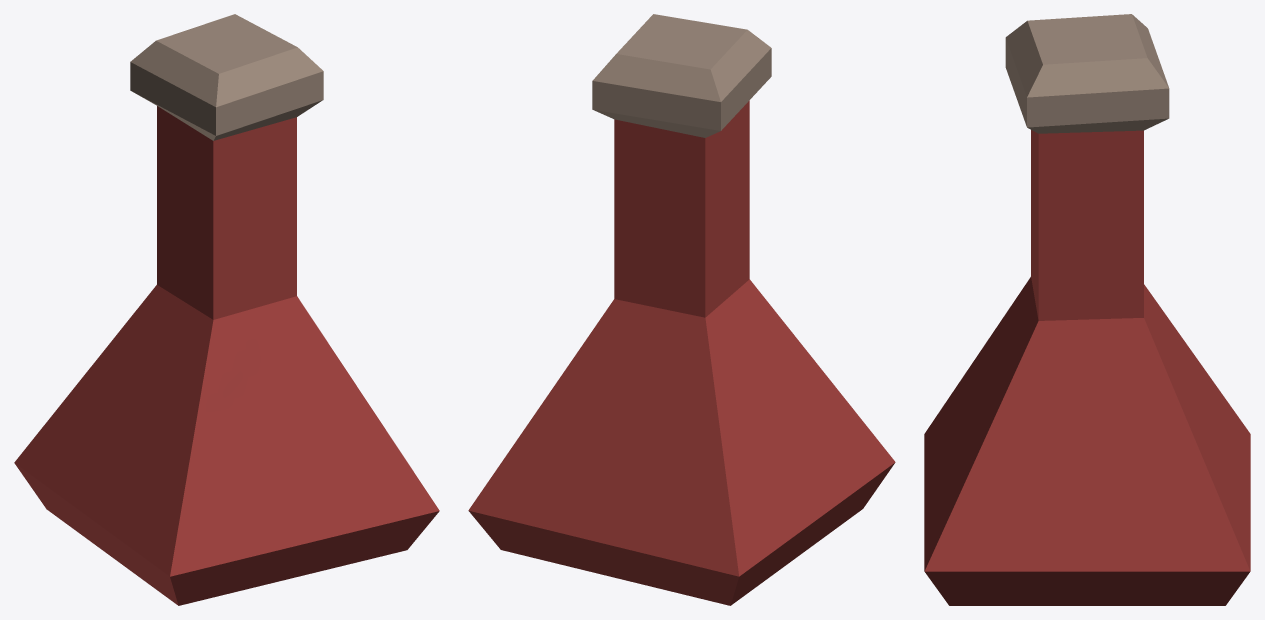
Rendered from potion.glb.
The picture shows the model from 3 angles, left to right: view 1: azimuth 30°, elevation 25°; view 2: azimuth 150°, elevation 25°; view 3: azimuth 270°, elevation 25°; orthographic projection. The views are drawn at different scales.
Visible parts, largest first — view 1: bottle_2; view 2: bottle_2; view 3: bottle_2.
Boxes of the visible parts, box(x1,y1,x2,y2) form: bottle_2: box(14, 14, 439, 605); bottle_2: box(468, 14, 895, 605); bottle_2: box(924, 14, 1250, 605).
Size of the model in its own units: 0.1818 by 0.3128 by 0.1818.
Materials: 1 (1 with a texture image).
